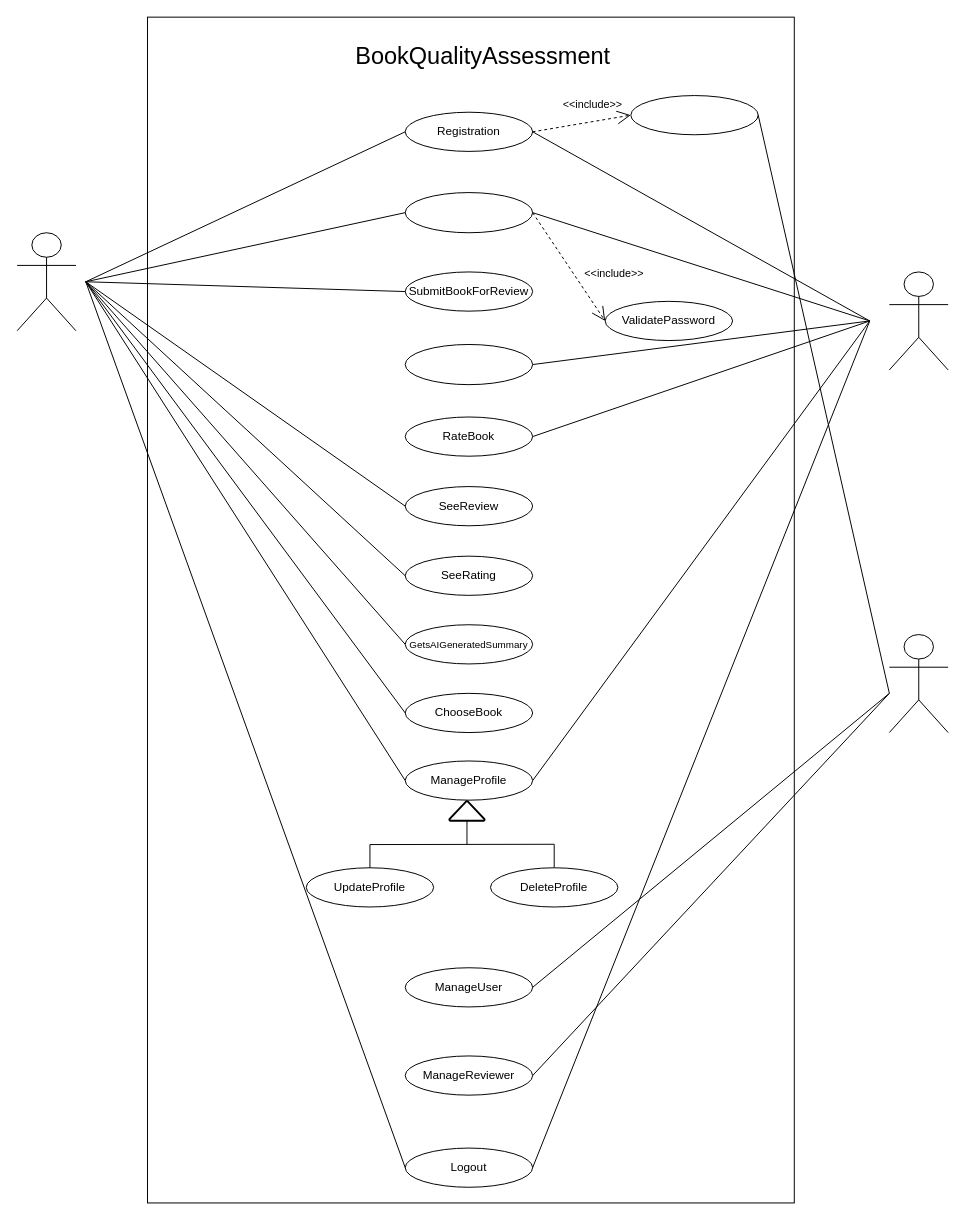
Image size: 965x1220. Some labels were removed from this diagram. The box of each missing label's shape, as (x1, y1, x2, y2) in pixels:
Admin: (888, 634, 948, 733)
Authentication: (630, 95, 758, 135)
Login: (404, 192, 533, 233)
ReviewBook: (404, 343, 533, 385)
Reviewer: (888, 271, 948, 370)
User: (16, 232, 76, 331)
